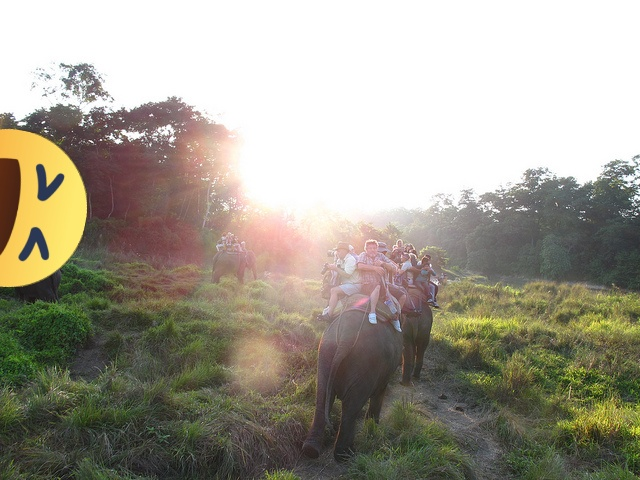haha: (0, 129, 87, 287)
